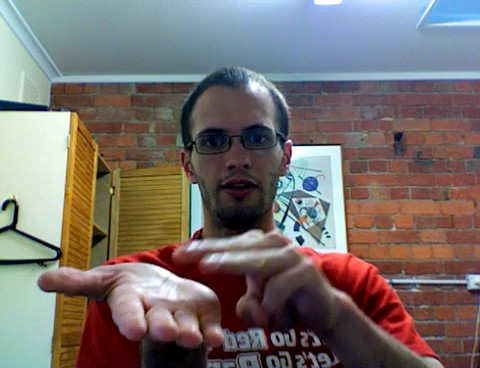M: (34, 221, 337, 350)
